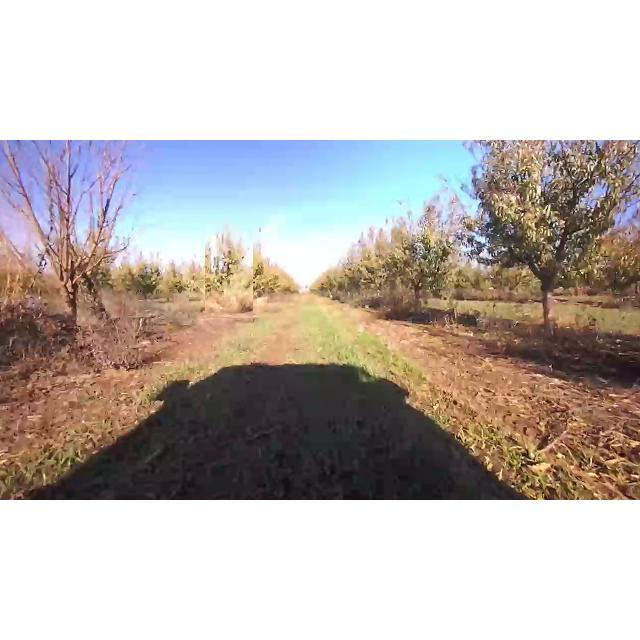tree: (445, 142, 635, 330), (1, 142, 151, 340), (382, 199, 458, 317), (205, 220, 253, 318)
